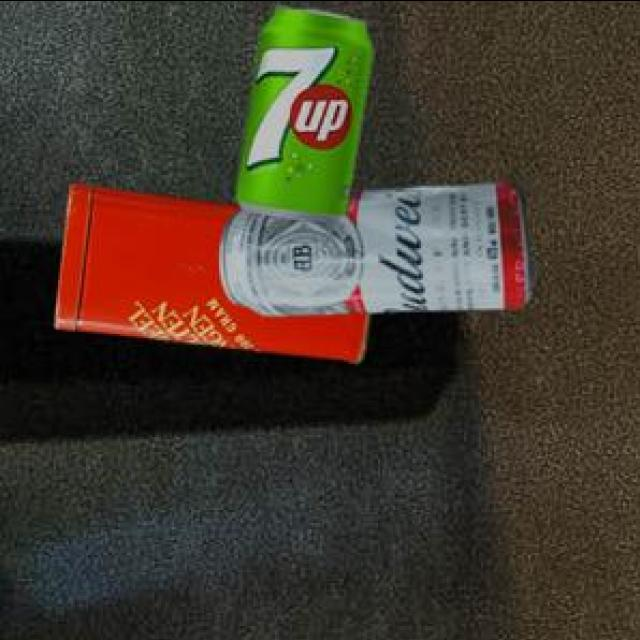logam: (53, 187, 368, 366), (216, 184, 532, 319), (233, 10, 368, 224)
